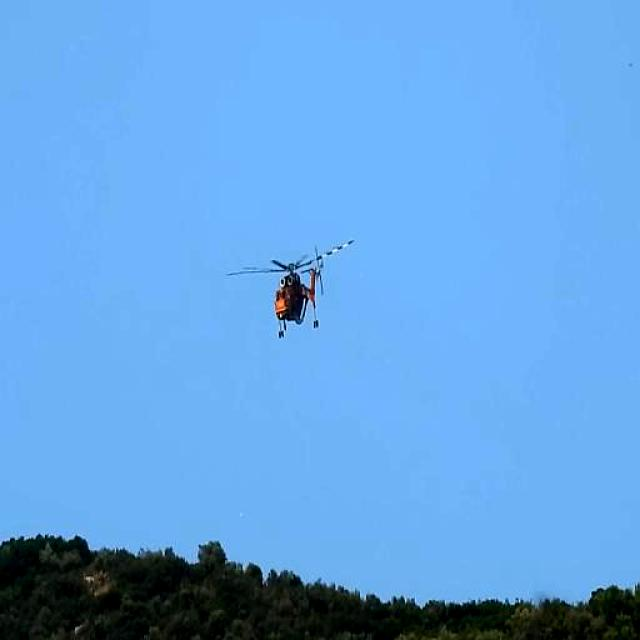drone: (226, 239, 354, 340)
